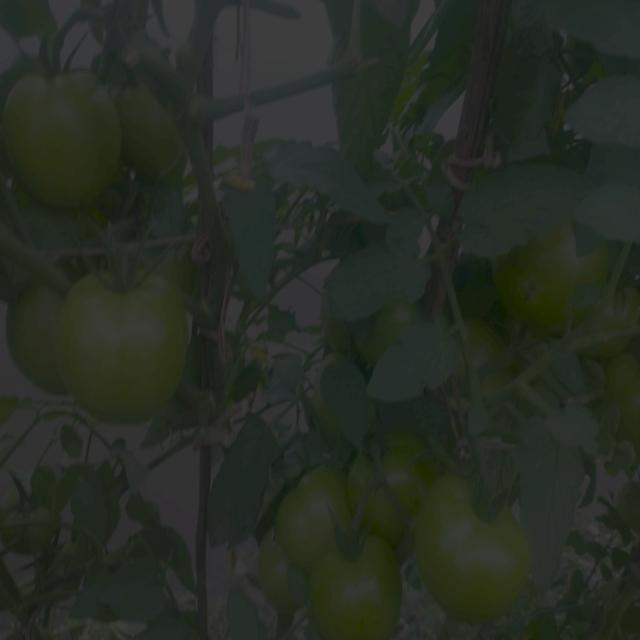tomato: (69, 261, 196, 429), (420, 474, 541, 627), (15, 69, 120, 208), (479, 215, 598, 309), (7, 278, 64, 407), (128, 76, 189, 193), (330, 548, 404, 640), (361, 272, 430, 369), (359, 432, 412, 521), (8, 485, 69, 561), (257, 551, 313, 629), (285, 480, 345, 543), (458, 323, 510, 386), (310, 364, 350, 445), (601, 285, 640, 359), (616, 368, 640, 445)
